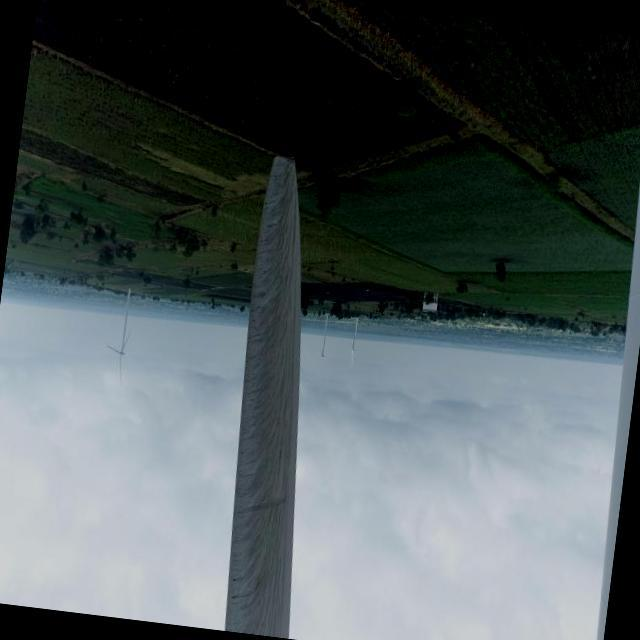Dirt: (225, 151, 296, 640)
